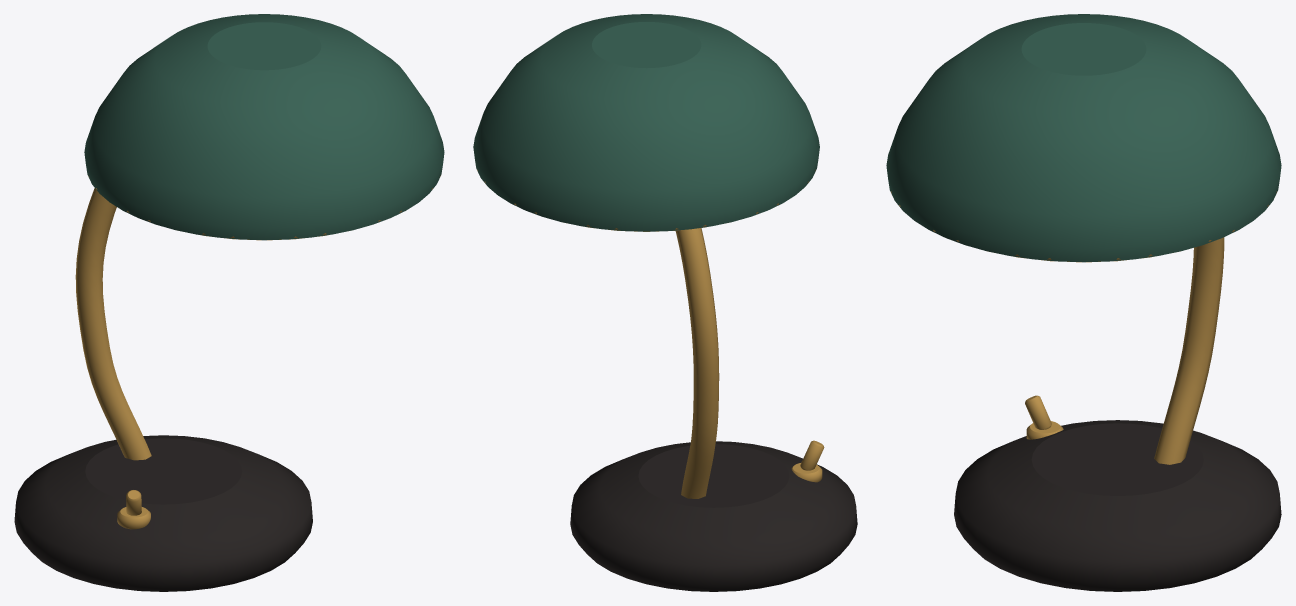
The model's file is DeskLamp.fbx.
3 views of the same model, side by side, from view 1: azimuth 30°, elevation 25°; view 2: azimuth 150°, elevation 25°; view 3: azimuth 270°, elevation 25° (orthographic). The views are drawn at different scales.
Parts seen in each view (by area): view 1: Green enamel shade, Weighted base, Brass gooseneck; view 2: Green enamel shade, Weighted base, Brass gooseneck; view 3: Green enamel shade, Weighted base, Brass gooseneck, Lamp toggle.
Part boxes in pixels (left/top/right/bottom): Green enamel shade: left=84, top=14, right=444, bottom=240; Weighted base: left=14, top=435, right=312, bottom=591; Brass gooseneck: left=75, top=188, right=151, bottom=460; Green enamel shade: left=473, top=14, right=819, bottom=231; Weighted base: left=570, top=441, right=857, bottom=591; Brass gooseneck: left=675, top=228, right=719, bottom=498; Green enamel shade: left=886, top=14, right=1281, bottom=262; Weighted base: left=954, top=420, right=1281, bottom=591; Brass gooseneck: left=1154, top=237, right=1224, bottom=464; Lamp toggle: left=1025, top=395, right=1051, bottom=429.
Bounding box in the file's own units: 0.278 × 0.342 × 0.234.
